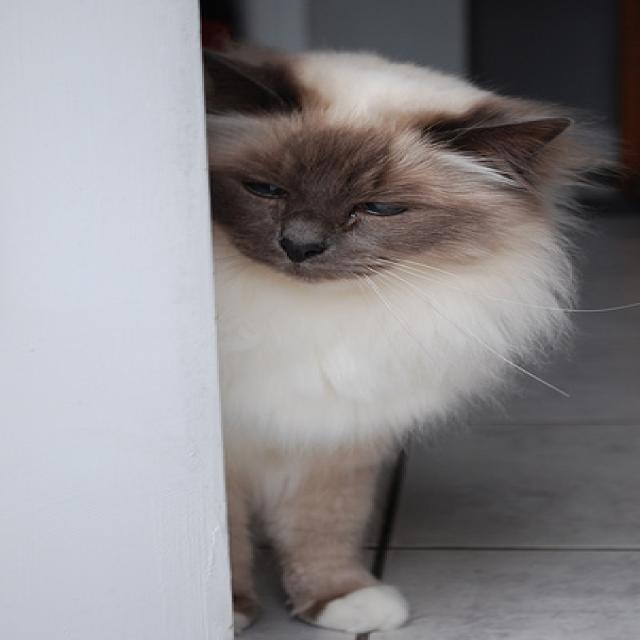Birman: (198, 44, 588, 638)
